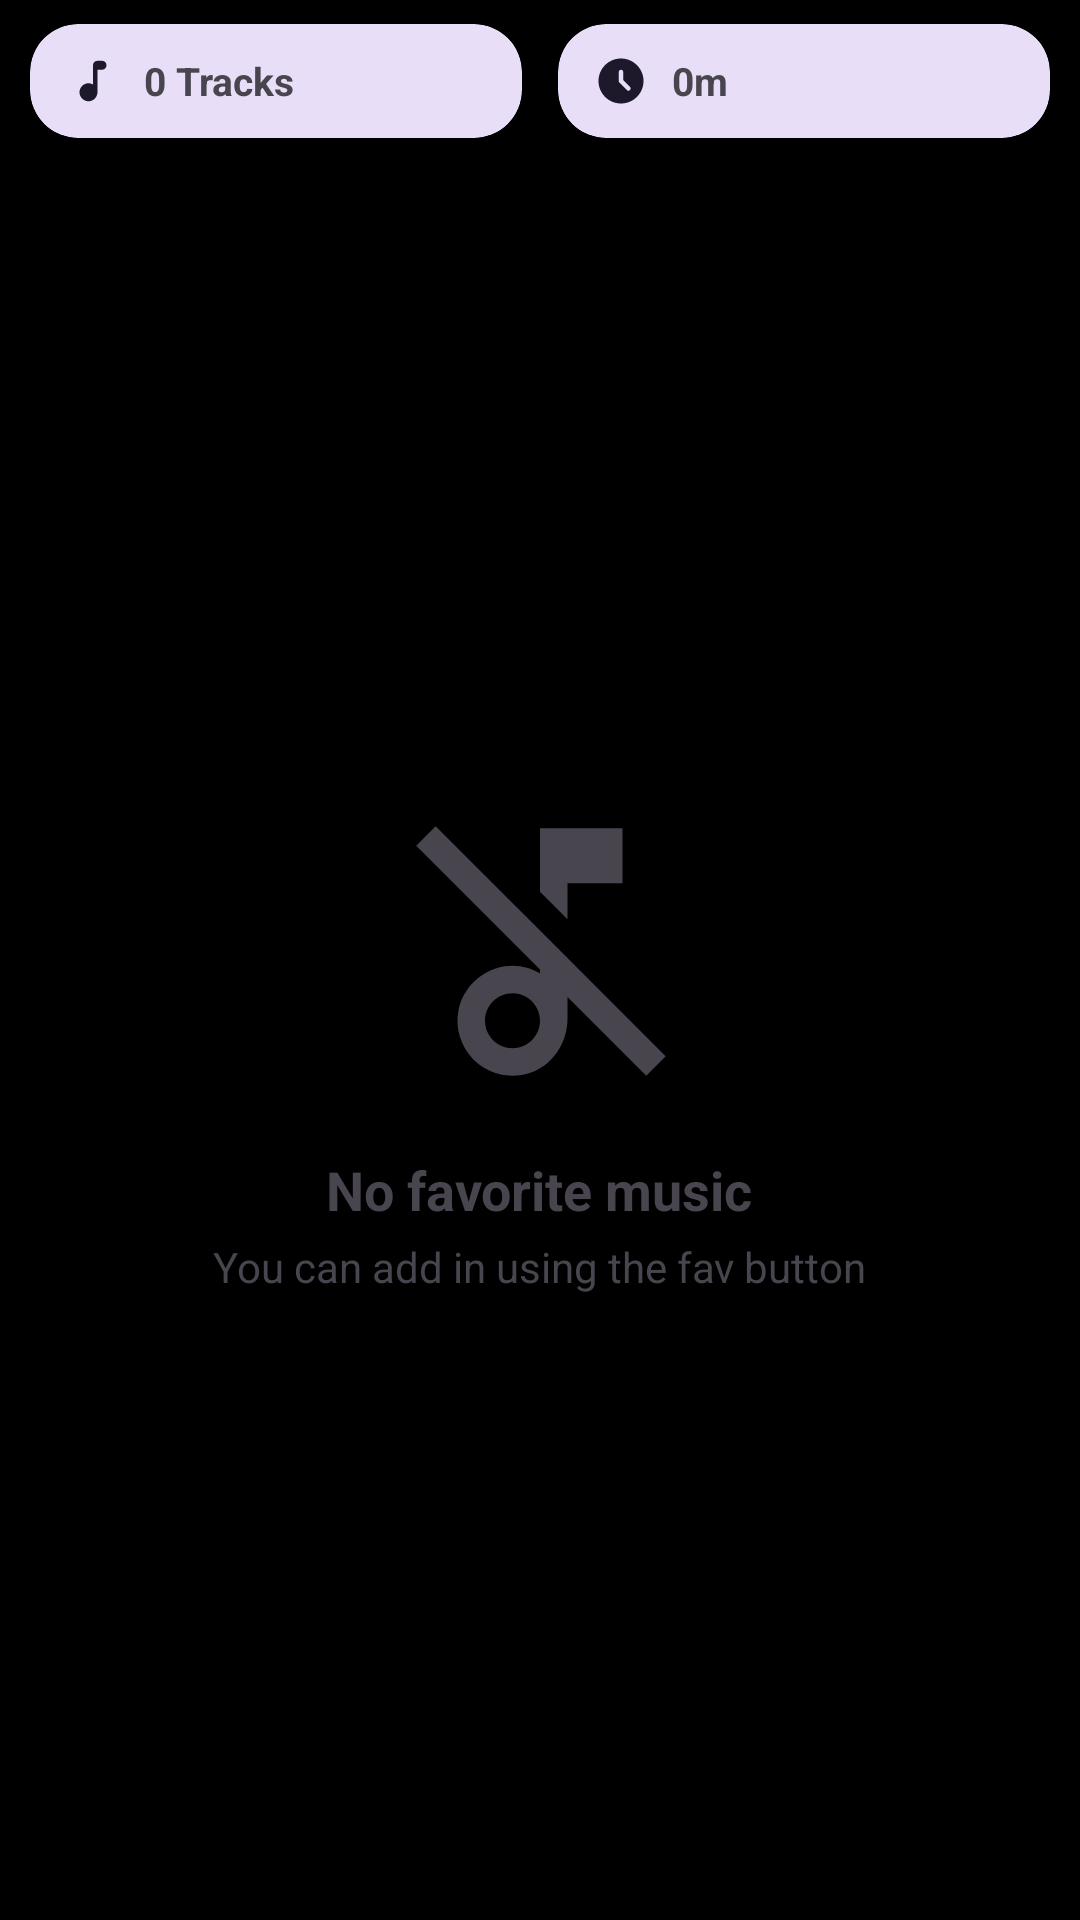

Screen size 1080*1920. Icon name, then its box in pixels as bbox(x1, y1, x2, y2):
time: bbox(598, 58, 644, 104)
